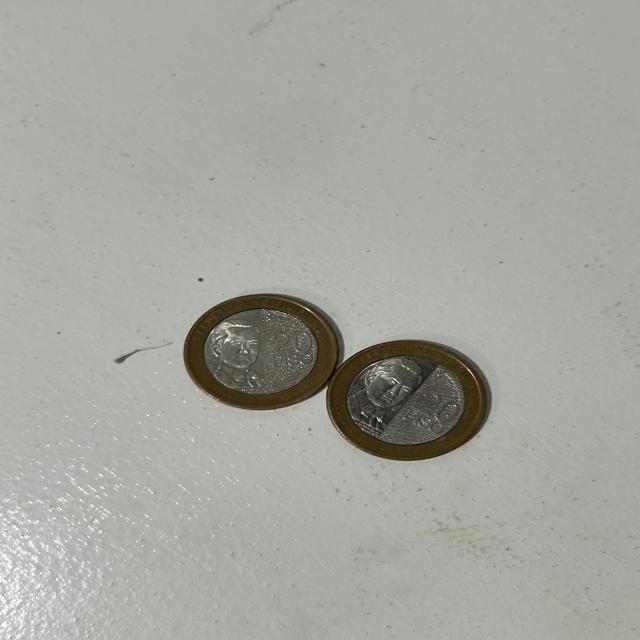20_New_Front: (406, 386, 466, 439), (266, 332, 317, 372)
